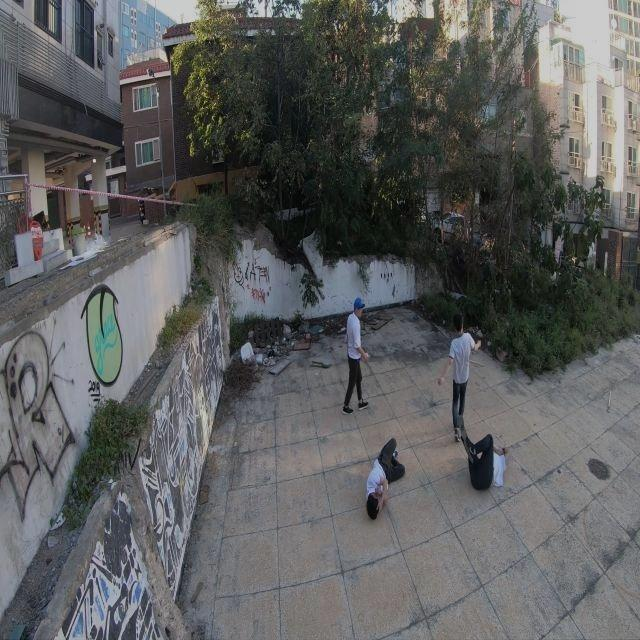non-fight: (444, 318, 476, 442), (340, 297, 369, 414)
